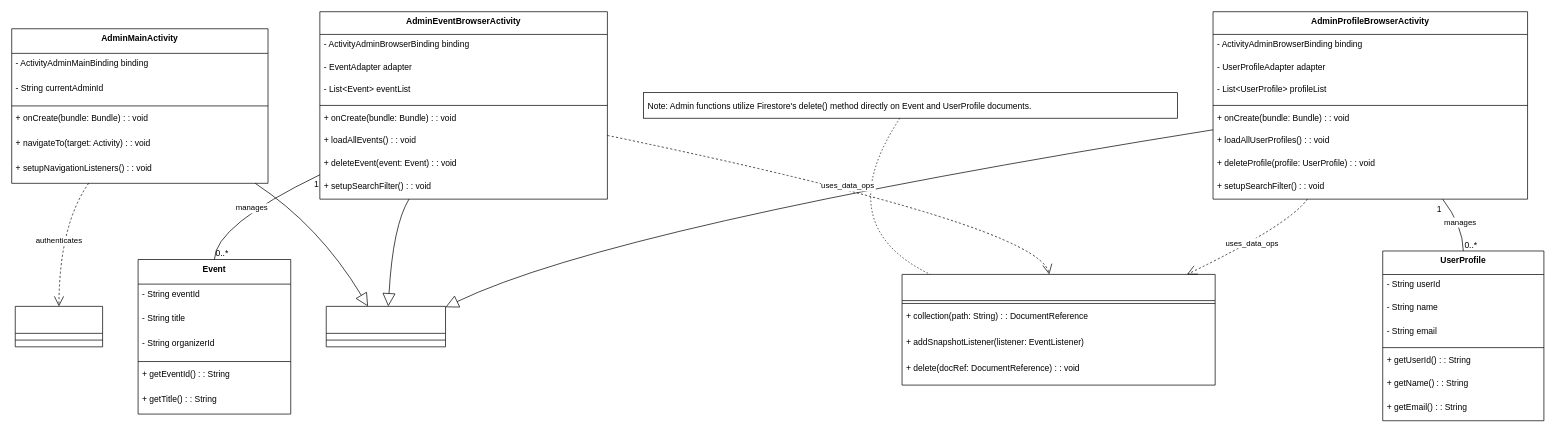
Image size: 1556x432. Some labels were removed from this diagram. Here are the shapes that lost their labels. From the top down, the box of each, then its label:
(15, 306, 103, 347): FirebaseAuth
(326, 306, 446, 347): AppCompatActivity
(901, 274, 1215, 385): FirebaseFirestore
